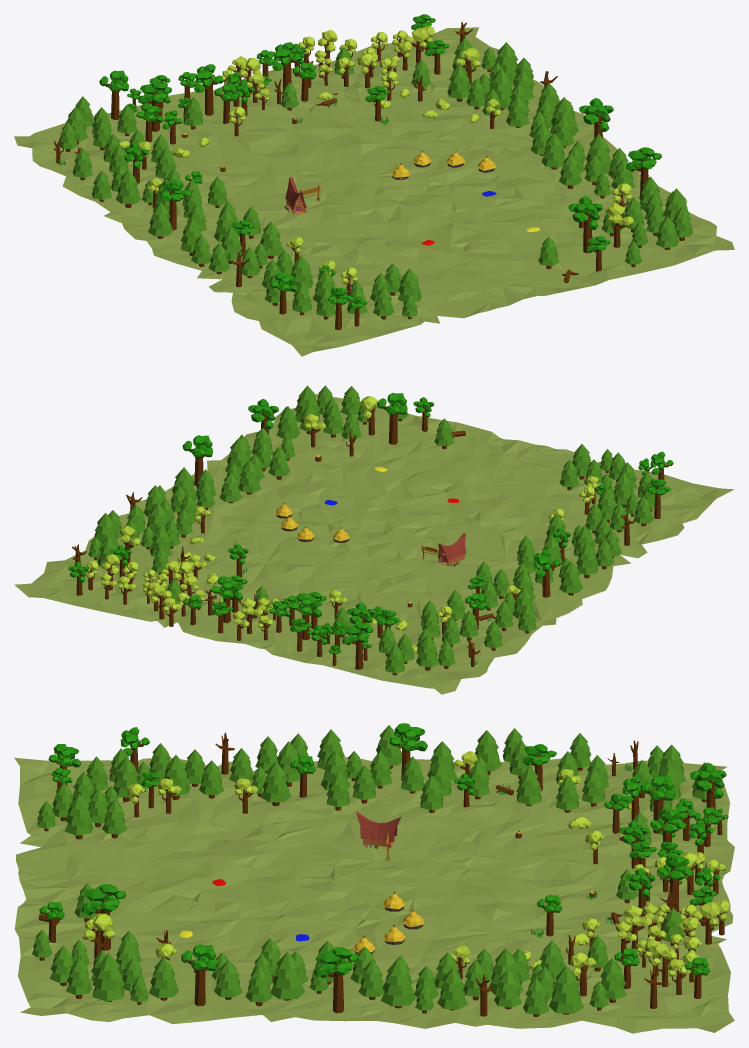
File: polyland_0504.FBX
3 renders of one model, top to bottom at view 1: azimuth 30°, elevation 25°; view 2: azimuth 150°, elevation 25°; view 3: azimuth 270°, elevation 25°, orthographic. The views are drawn at different scales.
Parts seen in each view (by area): view 1: Hedra004, 05tree014, 05tree037, 05tree025, 05tree011, 05tree030, 05tree035, 05tree012, 05tree020, 01tree058, 01tree060, 01tree085 (+4 smaller); view 2: Hedra004, 05tree014, 05tree035, 05tree037, 05tree012, 05tree025, 05tree030, Shop, 05tree011, 01tree052, 01tree060, 01tree042 (+3 smaller); view 3: Hedra004, 05tree037, 01tree077, 01tree091, 01tree018, 01tree068, 05tree011, 05tree014, Shop, 05tree035, 05tree012, 05tree030 (+59 smaller).
Part boxes in pixels (left/top/right/bottom): Hedra004: left=14, top=27, right=734, bottom=356; 05tree014: left=568, top=196, right=602, bottom=253; 05tree037: left=579, top=98, right=613, bottom=138; 05tree025: left=194, top=64, right=223, bottom=115; 05tree011: left=626, top=147, right=661, bottom=195; 05tree030: left=272, top=42, right=301, bottom=90; 05tree035: left=99, top=70, right=128, bottom=119; 05tree012: left=160, top=181, right=191, bottom=230; 05tree020: left=138, top=81, right=171, bottom=131; 01tree058: left=115, top=170, right=141, bottom=207; 01tree060: left=541, top=133, right=564, bottom=169; 01tree085: left=447, top=64, right=470, bottom=101; Hedra004: left=14, top=393, right=734, bottom=694; 05tree014: left=377, top=393, right=407, bottom=444; 05tree035: left=342, top=622, right=373, bottom=669; 05tree037: left=182, top=435, right=212, bottom=486; 05tree012: left=533, top=549, right=561, bottom=597; 05tree025: left=289, top=593, right=321, bottom=640; 05tree030: left=210, top=576, right=242, bottom=622; Shop: left=438, top=533, right=465, bottom=566; 05tree011: left=248, top=399, right=278, bottom=433; 01tree052: left=416, top=634, right=439, bottom=670; 01tree060: left=238, top=460, right=261, bottom=494; 01tree042: left=559, top=561, right=582, bottom=595; Hedra004: left=14, top=757, right=734, bottom=1033; 05tree037: left=315, top=947, right=359, bottom=1013; 01tree077: left=380, top=958, right=415, bottom=1008; 01tree091: left=548, top=966, right=583, bottom=1014; 01tree018: left=270, top=951, right=305, bottom=1000; 01tree068: left=92, top=953, right=124, bottom=1001; 05tree011: left=181, top=944, right=218, bottom=1006; 05tree014: left=82, top=884, right=126, bottom=950; Shop: left=356, top=811, right=400, bottom=847; 05tree035: left=690, top=762, right=726, bottom=809; 05tree012: left=389, top=723, right=427, bottom=780; 05tree030: left=657, top=854, right=693, bottom=912.
Size of the model in its own units: 182 by 20.56 by 201.
